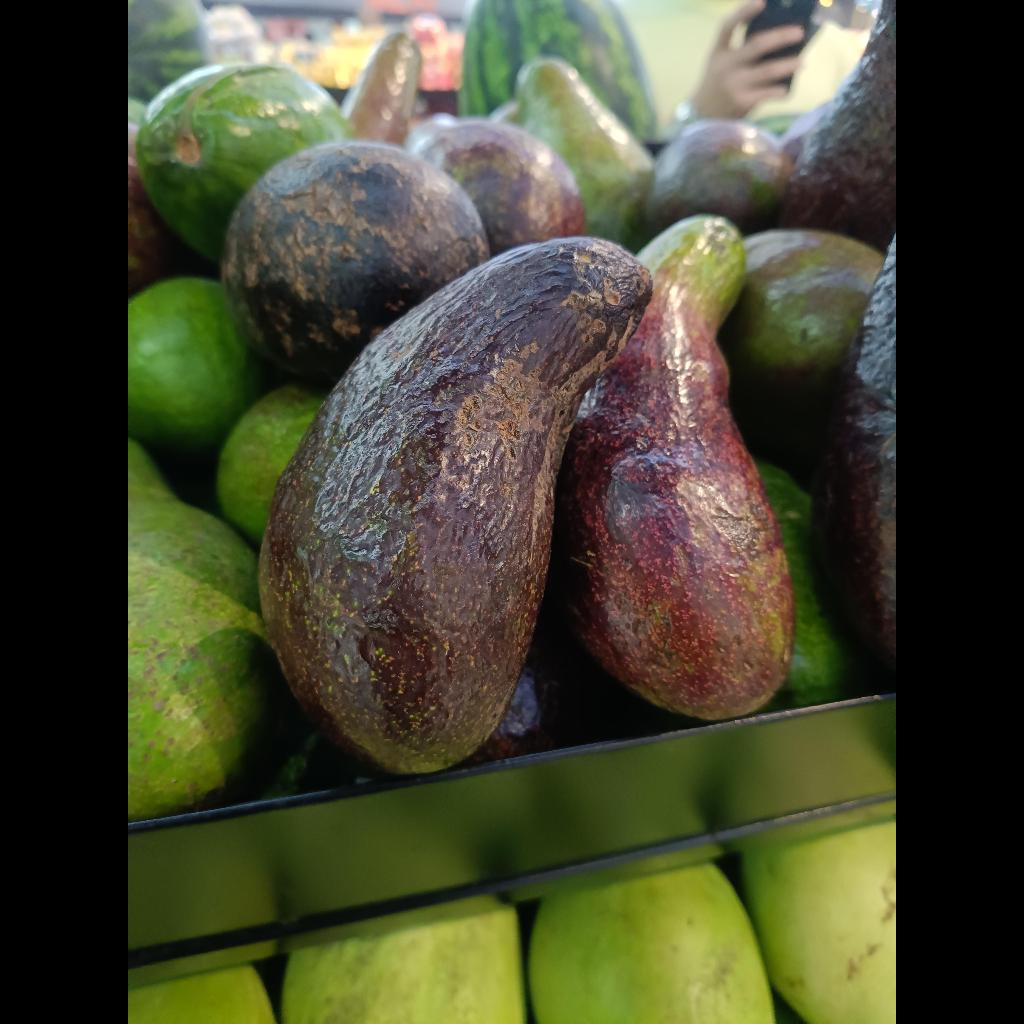anthracnose: (259, 237, 651, 772)
